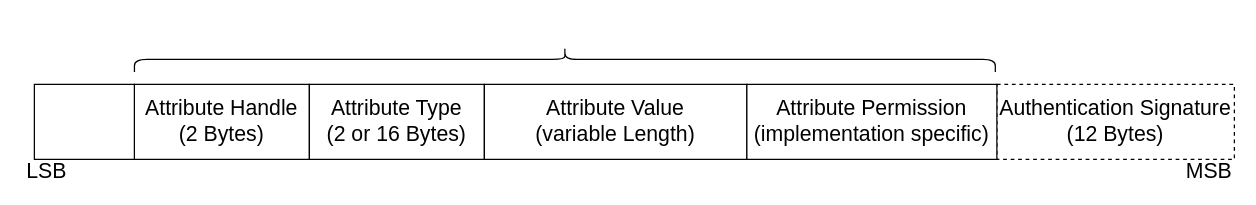
The diagram is 1256 pixels wide and 205 high, and some of its shapes have lost their labels. The box of each missing label's shape, as (x1, y1, x2, y2) in pixels:
Attribute Parameter: (133, 46, 995, 72)
Opcode (1 Byte): (33, 83, 134, 159)
